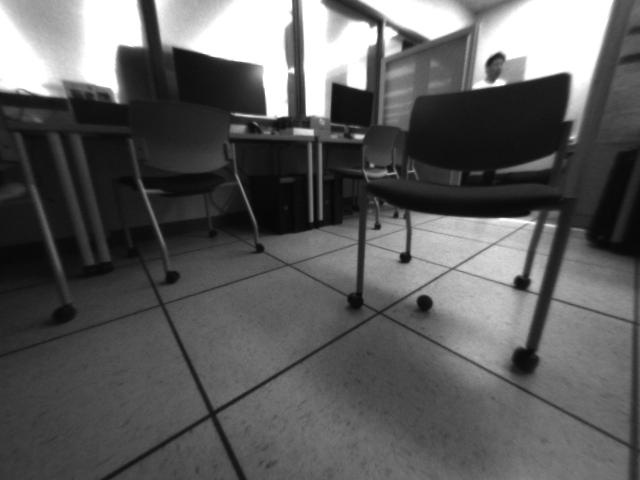dogtoy: (411, 289, 438, 315)
